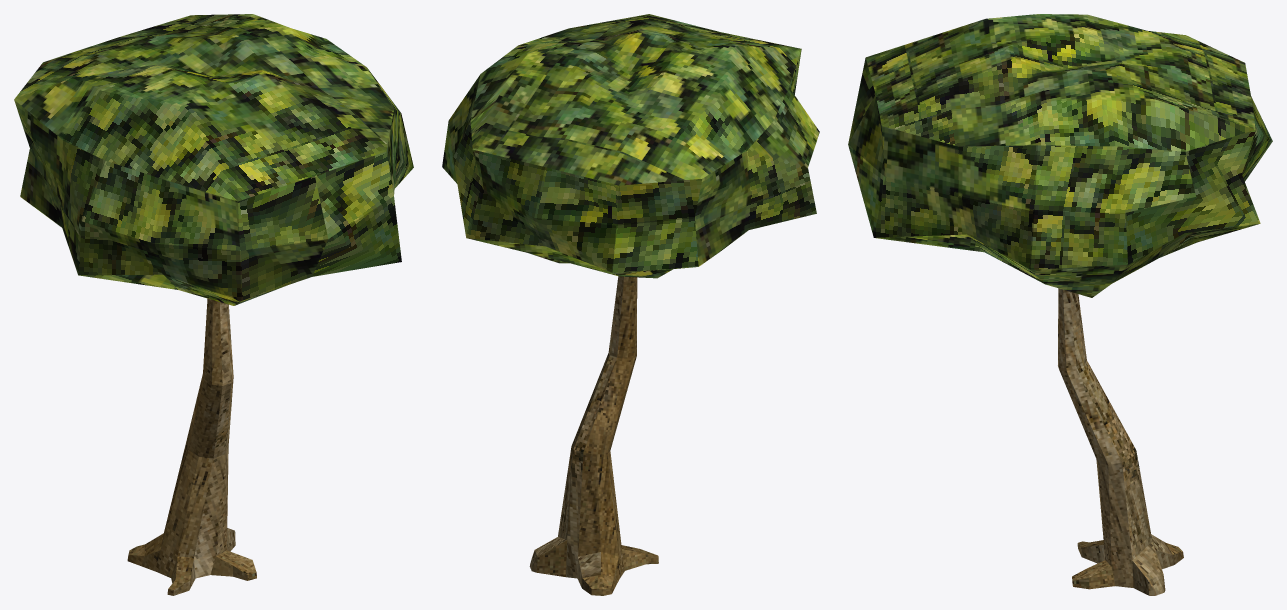
Rendered from leafy_tree_1.gltf.
3 renders of one model, left to right at view 1: azimuth 30°, elevation 25°; view 2: azimuth 150°, elevation 25°; view 3: azimuth 270°, elevation 25°, orthographic. The views are drawn at different scales.
Parts seen in each view (by area): view 1: Leaves, Trunk-col; view 2: Leaves, Trunk-col; view 3: Leaves, Trunk-col.
Boxes of the visible parts, bbox=[...] form: Leaves: bbox=[14, 14, 413, 305]; Trunk-col: bbox=[127, 298, 256, 595]; Leaves: bbox=[442, 14, 819, 278]; Trunk-col: bbox=[529, 276, 658, 595]; Leaves: bbox=[848, 14, 1272, 297]; Trunk-col: bbox=[1058, 288, 1183, 595].
Size of the model in its own units: 5.29 by 7.78 by 5.76.
2 materials, 2 textured.
